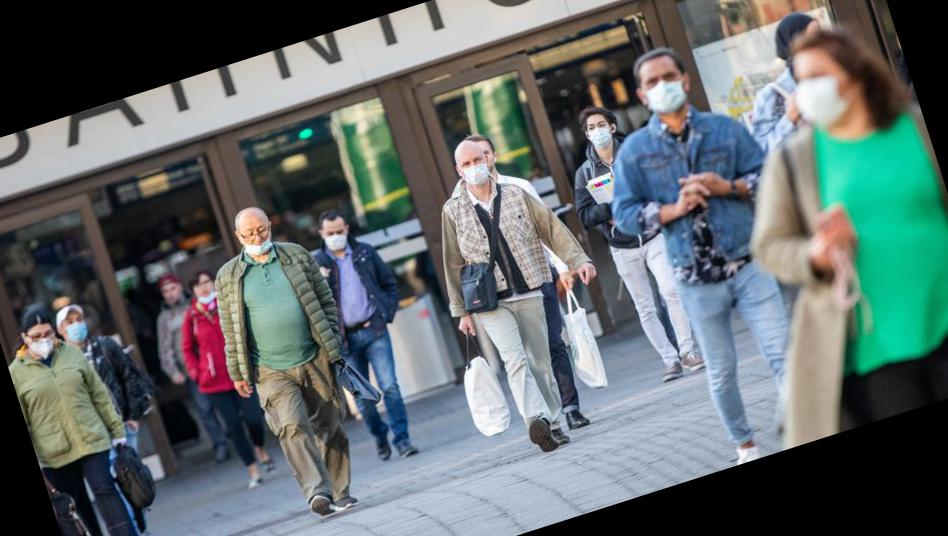mask_weared_incorrect: (239, 219, 275, 256), (193, 278, 217, 305)
with_mask: (786, 59, 855, 129), (640, 64, 687, 109), (456, 149, 495, 189), (25, 324, 59, 359), (321, 220, 352, 253), (586, 118, 613, 144), (62, 313, 90, 338)
without_mask: (161, 284, 182, 305)
